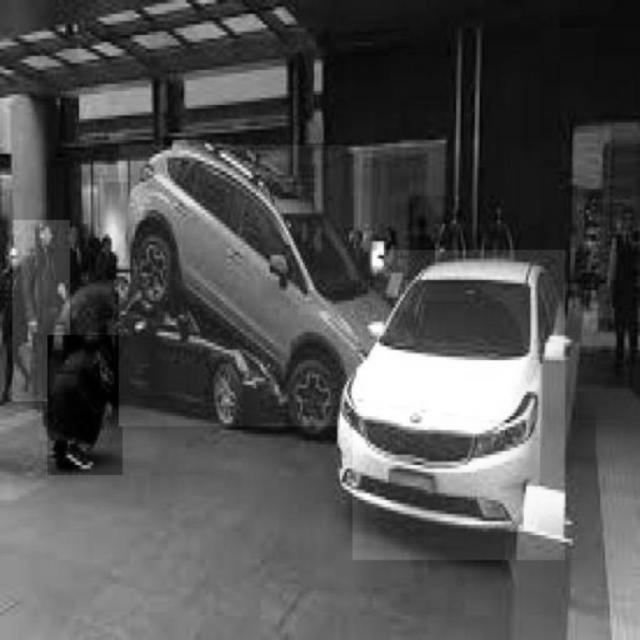accident: (119, 146, 372, 427)
person: (48, 336, 122, 476), (13, 221, 70, 401)
vehicle: (352, 251, 566, 561)
